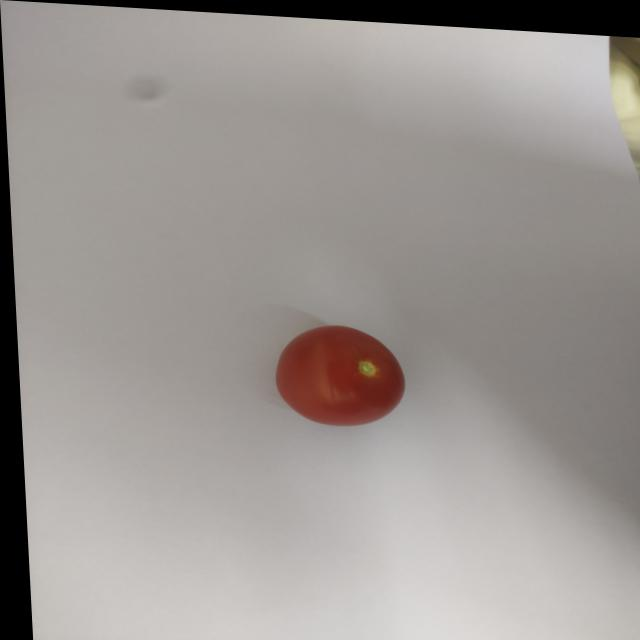kirmizi: (257, 306, 410, 436)
